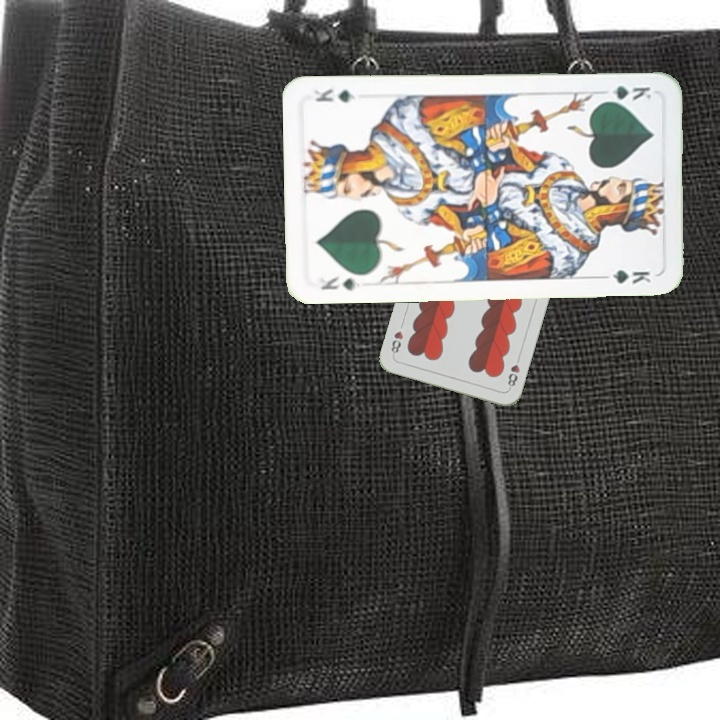GK: (597, 81, 654, 104), (317, 272, 363, 293)
H8: (503, 352, 523, 391)
